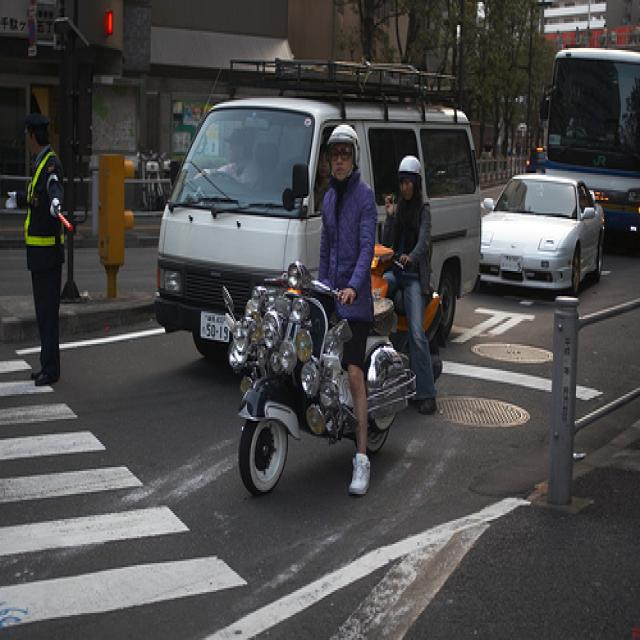motor: (223, 260, 417, 499), (371, 243, 443, 384)
